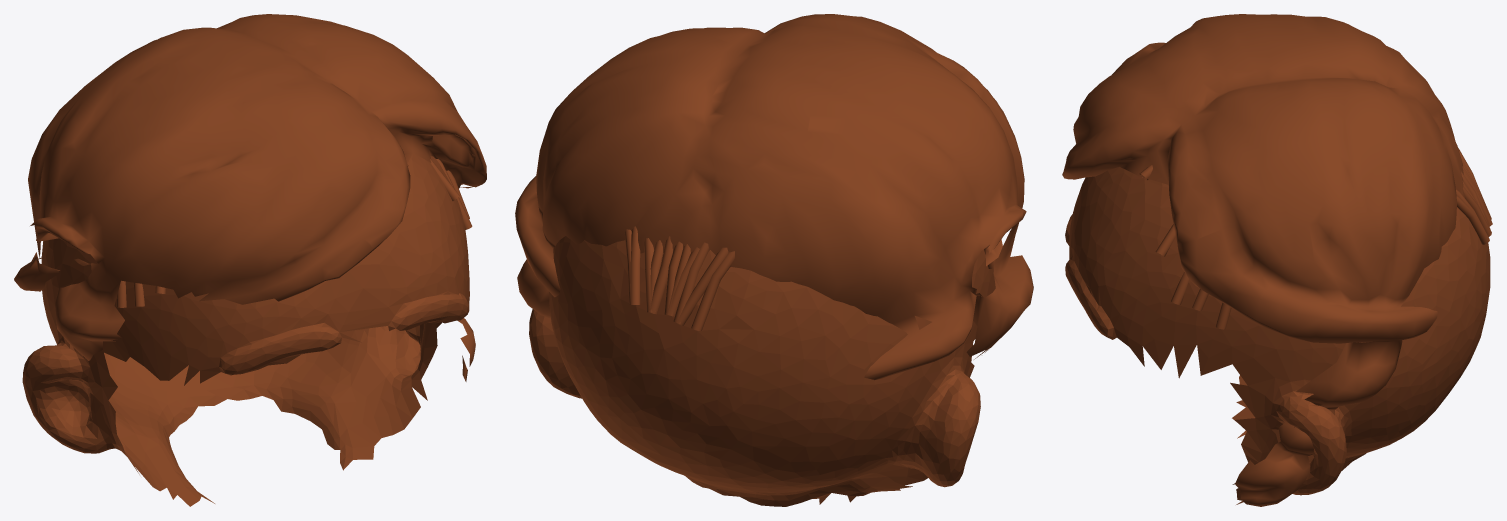
File: braid.glb
3 views of the same model, side by side, from view 1: azimuth 30°, elevation 25°; view 2: azimuth 150°, elevation 25°; view 3: azimuth 270°, elevation 25° (orthographic). The views are drawn at different scales.
Parts seen in each view (by area): view 1: Hair, HairScalp, HairPulledRootStrands; view 2: Hair, HairScalp, HairPulledRootStrands; view 3: Hair, HairScalp, HairPulledRootStrands.
Part boxes in pixels (left/top/right/bottom): Hair: left=14, top=14, right=486, bottom=381; HairScalp: left=22, top=153, right=469, bottom=506; HairPulledRootStrands: left=116, top=159, right=472, bottom=307; Hair: left=515, top=14, right=1033, bottom=380; HairScalp: left=529, top=236, right=995, bottom=506; HairPulledRootStrands: left=625, top=226, right=995, bottom=330; Hair: left=1062, top=14, right=1464, bottom=506; HairScalp: left=1065, top=167, right=1490, bottom=504; HairPulledRootStrands: left=1139, top=148, right=1492, bottom=329.
Bounding box in the file's own units: 0.4811 × 0.4541 × 0.4248.
